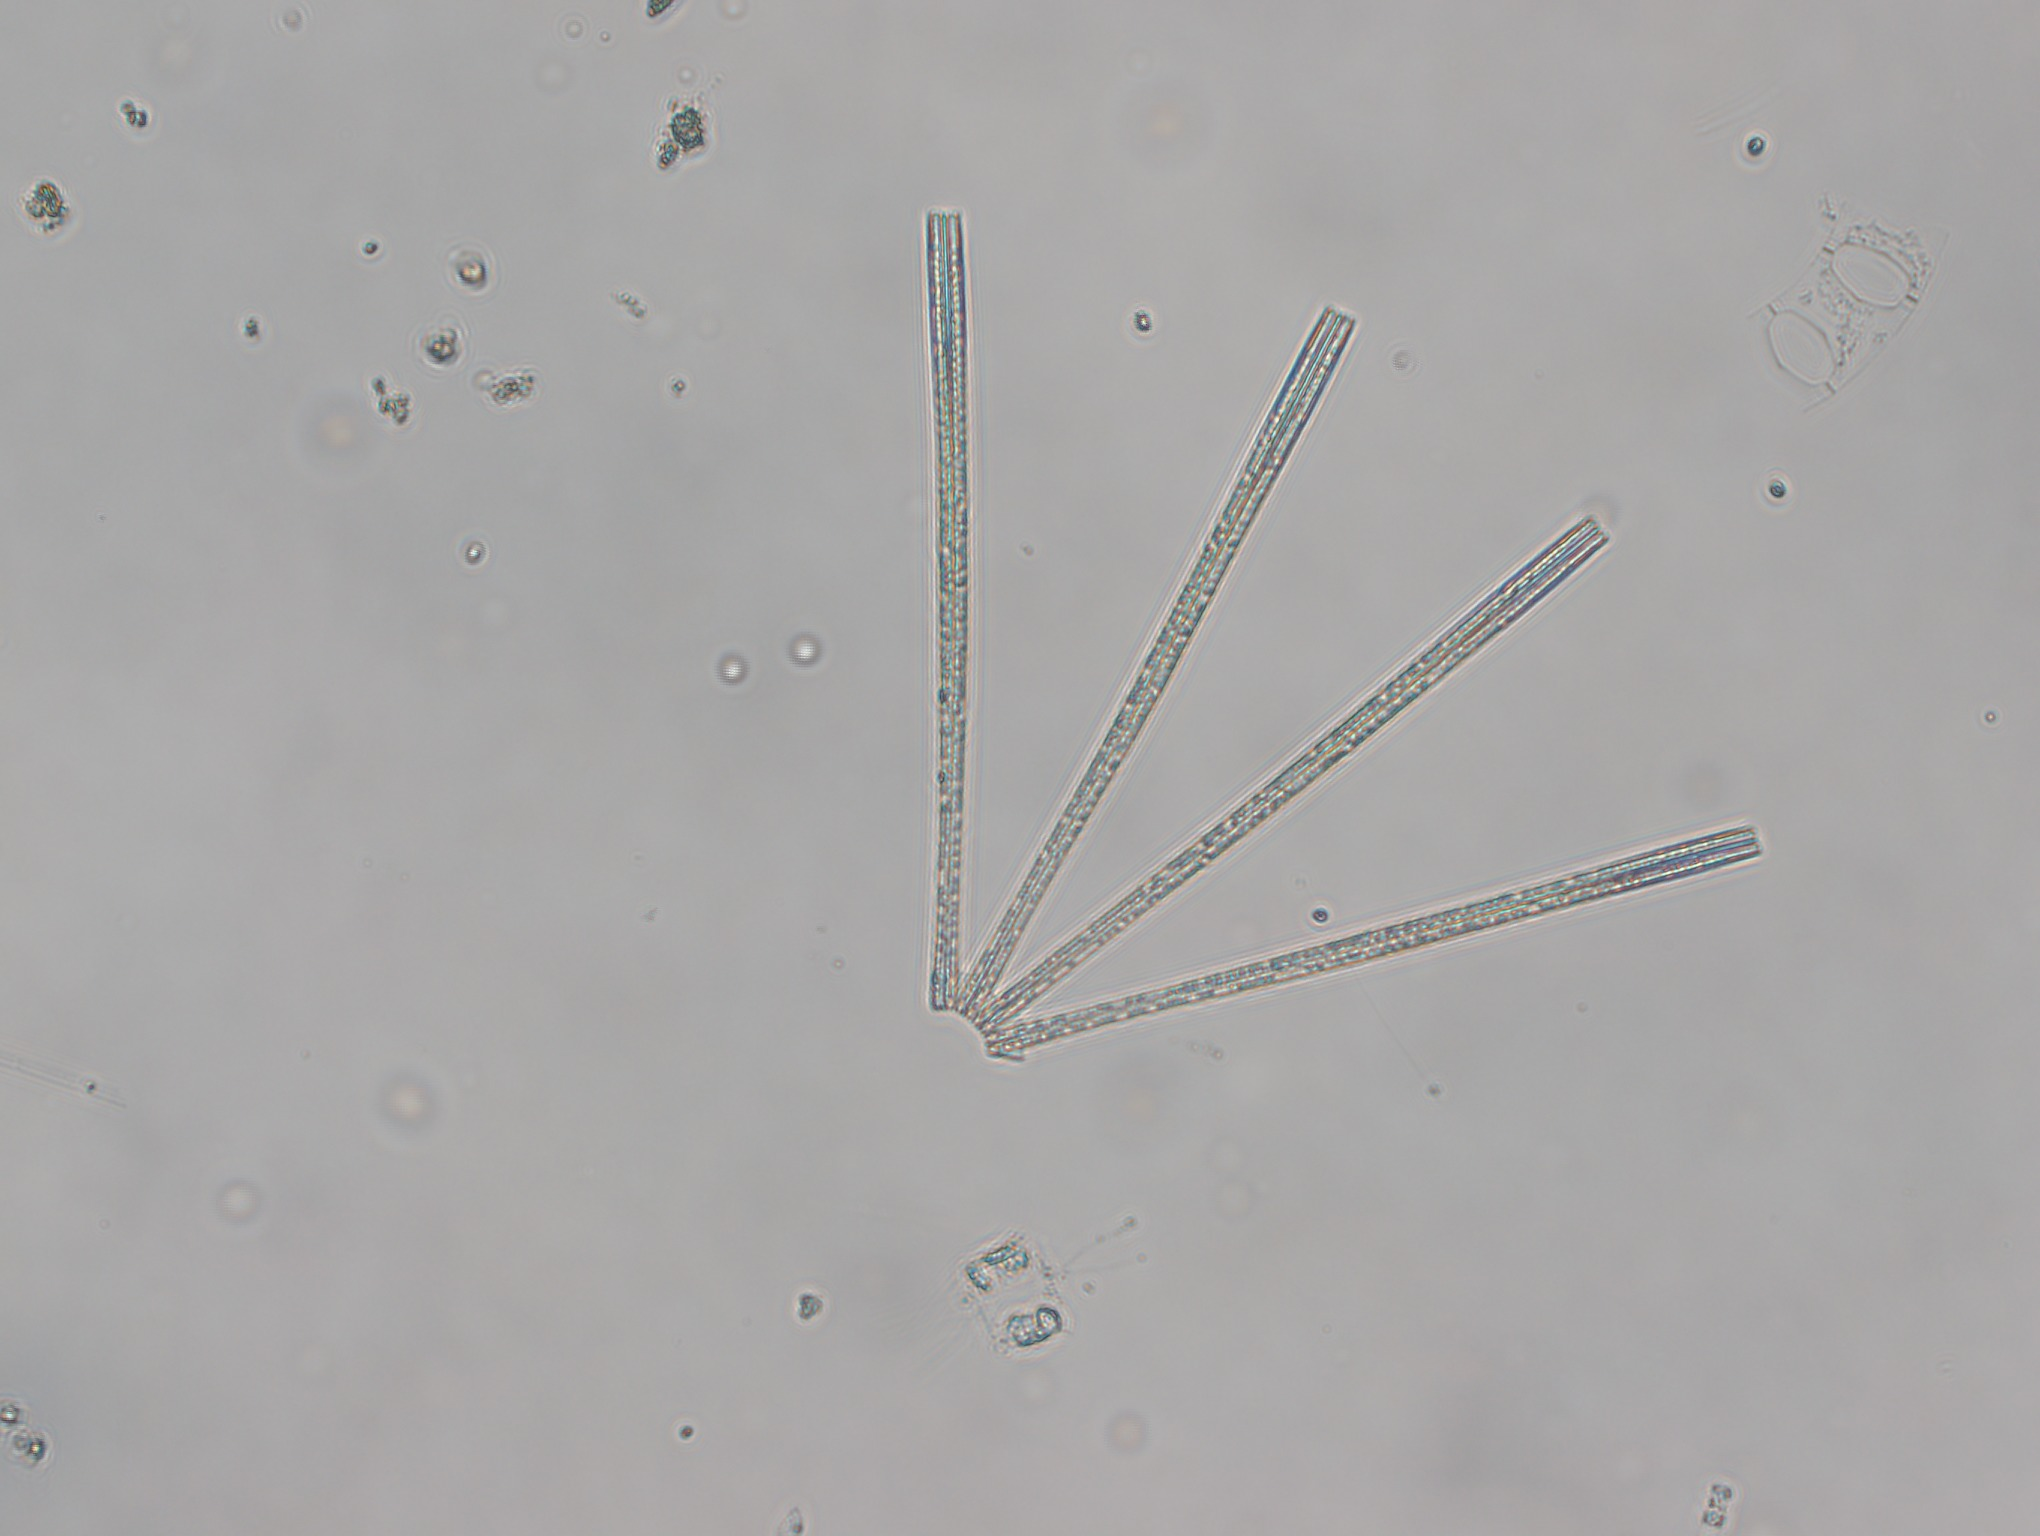eucampia: (1764, 211, 1959, 411)
thalassionema frauenfeldii: (882, 195, 1763, 1084)
